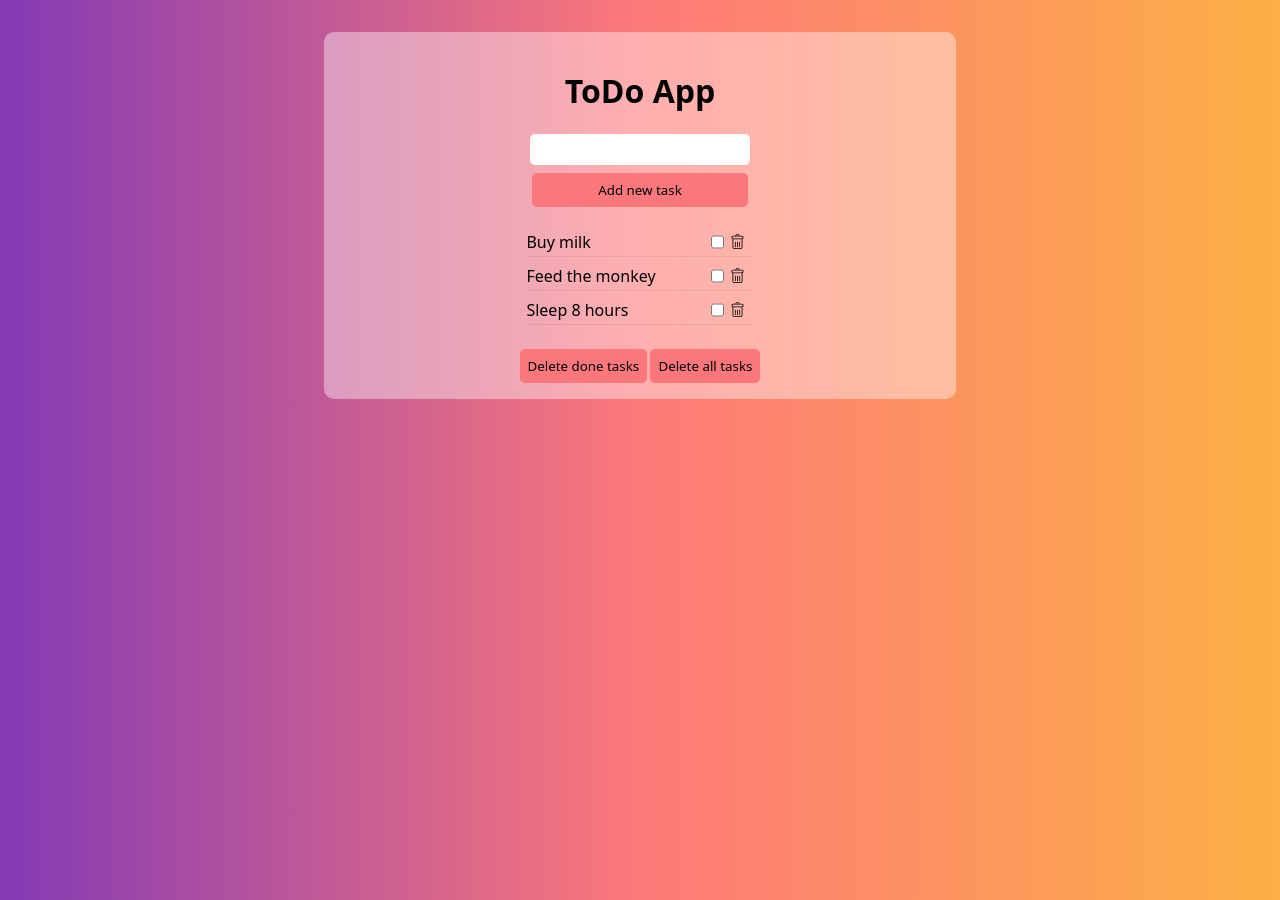
Test case: App component › renders text "No tasks to complete" after clicking the Delete all tasks button
Click the button "Delete all tasks": (705, 366) [650,349,760,383]
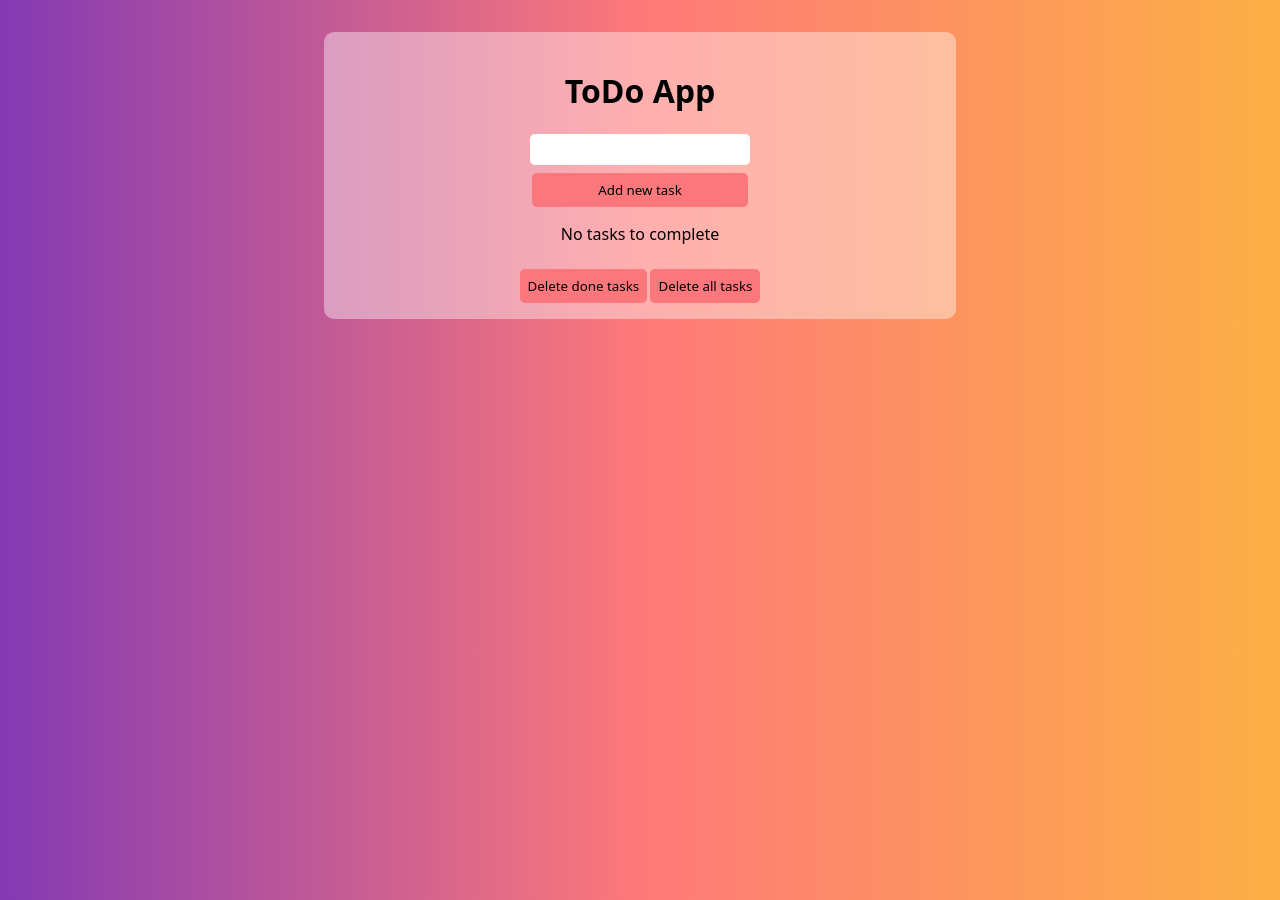
Check: the text "No tasks to complete" is shown, box [561,223,719,245]
